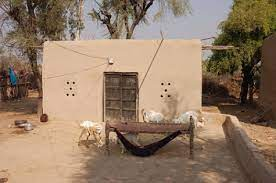Mud House: (35, 32, 225, 146)
